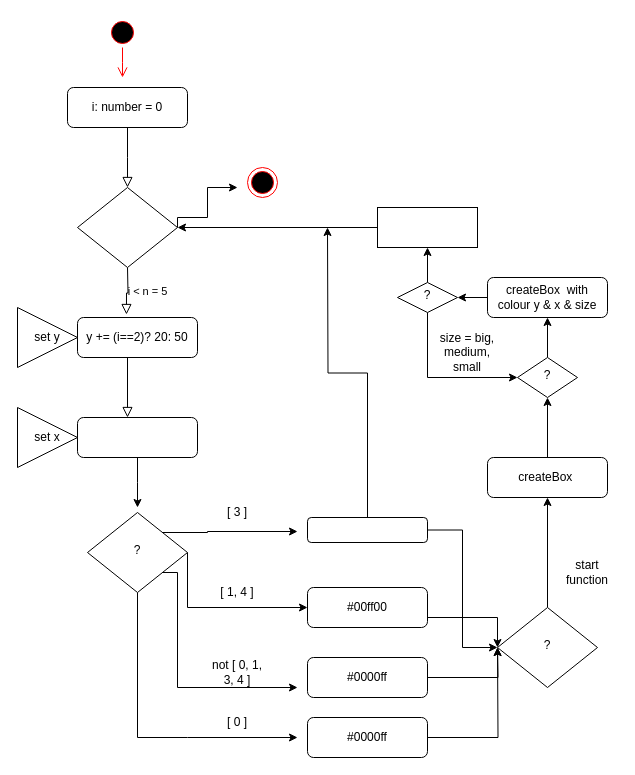
The diagram is 635 pixels wide and 775 high, and some of its shapes have lost their labels. Each missing label, with the centre of its shape:
"i >= 5" goes at point 127,227.
"increase i by 1" goes at point 427,227.
"start new" goes at point 367,529.
"x = (x+ 170) % 400" goes at point 137,437.
